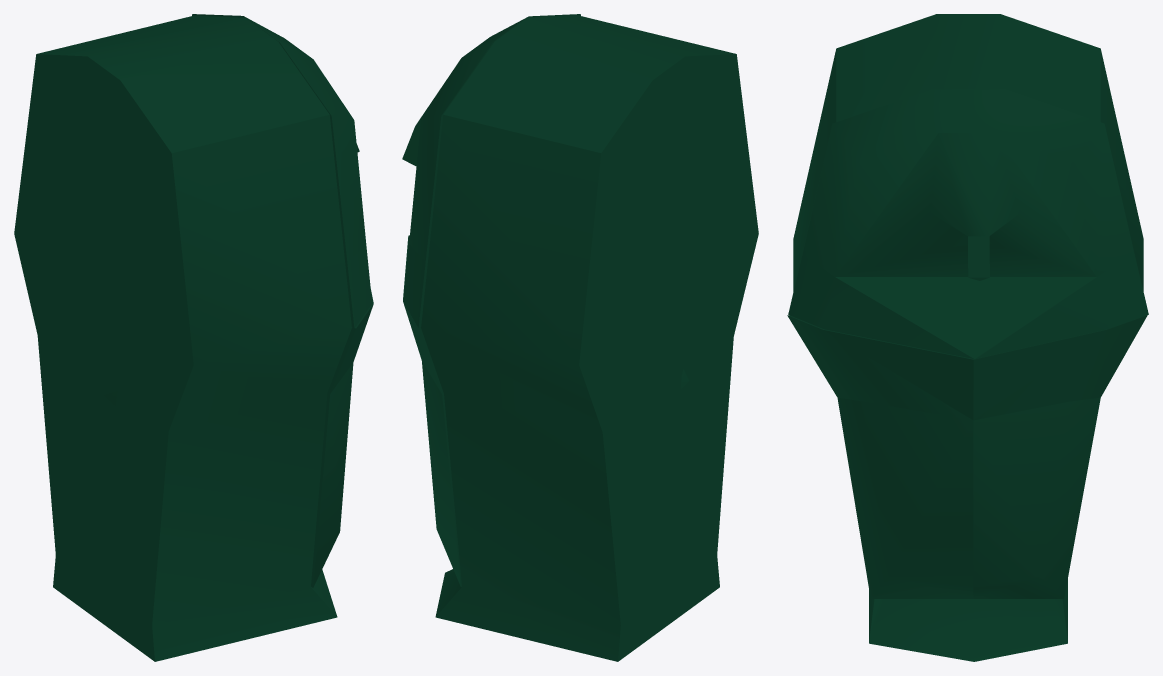
File: momybase.glb
3 views of the same model, side by side, from view 1: azimuth 30°, elevation 25°; view 2: azimuth 150°, elevation 25°; view 3: azimuth 270°, elevation 25° (orthographic). The views are drawn at different scales.
Parts seen in each view (by area): view 1: momybase_m03c79990; view 2: momybase_m03c79990; view 3: momybase_m03c79990.
Part boxes in pixels (x1,y1,x2,y2): momybase_m03c79990: (14, 14, 373, 661); momybase_m03c79990: (402, 14, 758, 661); momybase_m03c79990: (787, 14, 1148, 661).
Size of the model in its own units: 167 by 330 by 200.
Materials: 1 (1 with a texture image).
